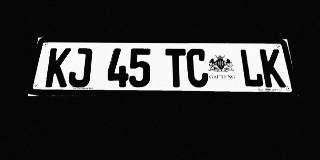4: (107, 48, 130, 87)
5: (129, 48, 151, 87)
C: (186, 49, 209, 87)
J: (67, 48, 93, 87)
K: (259, 49, 286, 87), (45, 48, 71, 87)
L: (239, 49, 265, 87)
T: (165, 48, 187, 87)
